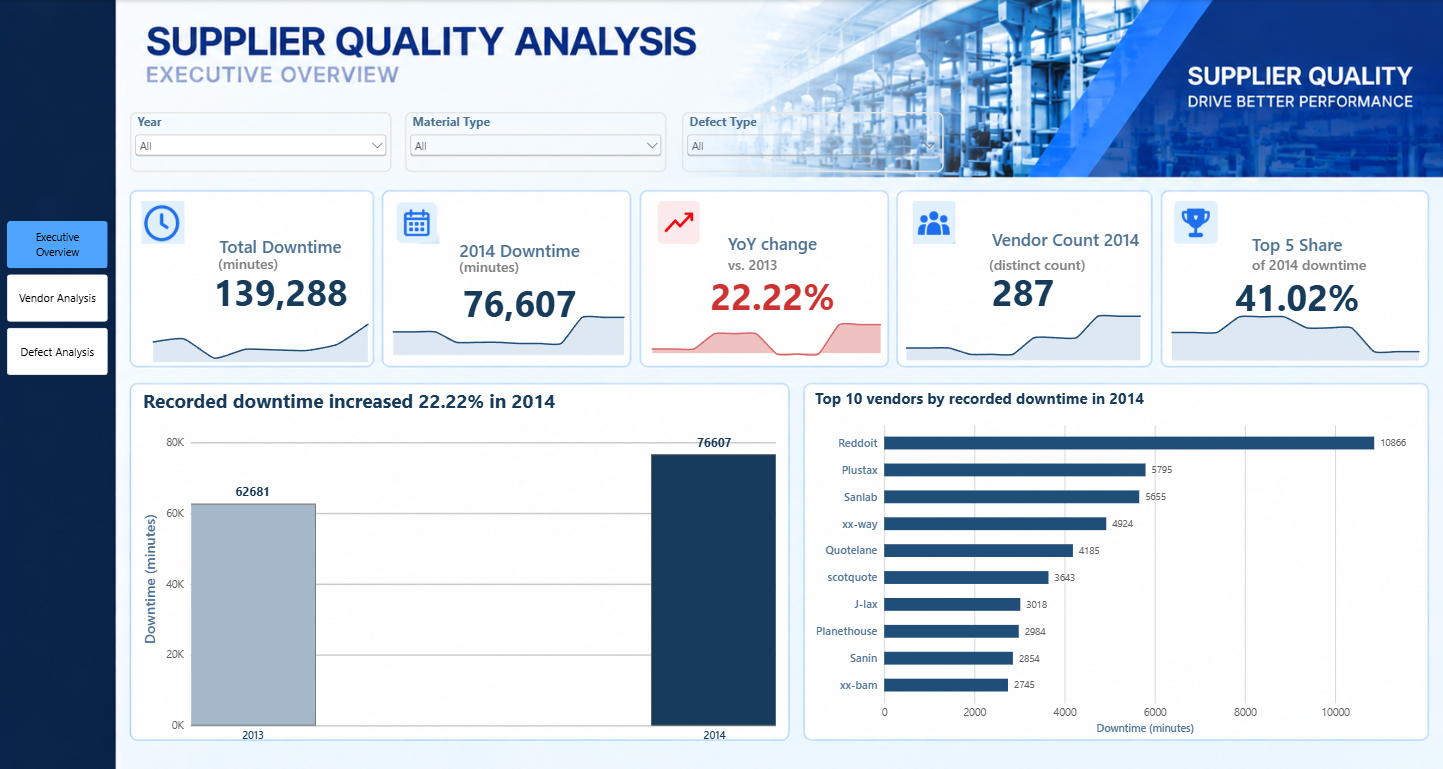

What the dashboard file says about the page in this screenshot:
{"tool":"powerbi","page":{"name":"Executive Overview","canvas":[1920,1080],"ordinal":0},"visuals":[{"type":"slicer","fields":{"Values":["DateTable.Year"]},"box":[172.9,149,348.5,79.8],"z":0},{"type":"slicer","fields":{"Values":["MaterialTypeTable.Material Type"]},"box":[538.7,149,348.5,79.8],"z":1000},{"type":"slicer","fields":{"Values":["DefectTypeTable.Defect Type"]},"box":[907.1,149,348.5,79.8],"z":2000},{"type":"cardVisual","title":"Total Downtime","fields":{"Data":["*Measure.Total Downtime"]},"box":[173.8,243.8,398.8,246.2],"z":3000},{"type":"textbox","box":[289.4,338.3,191.5,51.1],"z":4000},{"type":"cardVisual","title":"Total Downtime","fields":{"Data":["*Measure.Downtime Change %"]},"box":[814.4,243.3,427.5,248.8],"z":5000},{"type":"cardVisual","title":"Total Downtime","fields":{"Data":["*Measure.Vendor Count 2014"]},"box":[1190,240,341.1,246.7],"z":6000},{"type":"textbox","box":[967.8,338.9,100,50],"z":7000},{"type":"textbox","box":[1315.6,338.9,142.2,62.2],"z":8000},{"type":"cardVisual","title":"Total Downtime","fields":{"Data":["*Measure.Top 5 Downtime Share 2014"]},"box":[1543.3,246.7,365.6,246.7],"z":9000},{"type":"textbox","box":[1665.6,338.9,200,38.9],"z":10000},{"type":"lineChart","fields":{"Category":["DateTable.Date.Variation.Date Hierarchy.Quarter","DateTable.Year"],"Y":["*Measure.Total Downtime"]},"box":[172.2,397.8,350,100],"z":11000},{"type":"lineChart","fields":{"Category":["DateTable.Date.Variation.Date Hierarchy.Quarter","DateTable.Year"],"Y":["*Measure.Top 5 Downtime Share 2014"]},"box":[1531.1,393.3,384.4,102.2],"z":12000},{"type":"lineChart","fields":{"Category":["DateTable.Date.Variation.Date Hierarchy.Quarter","DateTable.Year"],"Y":["*Measure.Downtime Change %"]},"box":[840,401.1,357.8,100],"z":13000},{"type":"lineChart","fields":{"Category":["DateTable.Date.Variation.Date Hierarchy.Quarter","DateTable.Year"],"Y":["*Measure.Vendor Count 2014"]},"box":[1177.8,392.2,365.6,103.3],"z":14000},{"type":"clusteredColumnChart","title":"Recorded downtime increased 22.22% in 2014","fields":{"Category":["DateTable.Year"],"Y":["*Measure.Total Downtime"]},"box":[173.6,501.9,873.6,507.5],"z":15000},{"type":"cardVisual","title":"Total Downtime","fields":{"Data":["*Measure.Downtime 2014 Display"]},"box":[476.7,254.4,430,246.2],"z":16000},{"type":"clusteredBarChart","title":"Top 10 vendors by recorded downtime in 2014","fields":{"Category":["VendorTable.Vendor"],"Y":["*Measure.Downtime 2014"]},"box":[1067.9,501.9,837.7,492.5],"z":17000},{"type":"textbox","box":[610,342.2,103.3,50],"z":18000},{"type":"lineChart","fields":{"Category":["DateTable.Date.Variation.Date Hierarchy.Quarter","DateTable.Year"],"Y":["*Measure.Downtime 2014"]},"box":[495.6,388.9,361.1,100],"z":19000},{"type":"image","box":[174.2,267.3,85.1,57.2],"z":20000},{"type":"image","box":[522.7,267.3,66.5,57.2],"z":21000},{"type":"image","box":[856.6,267.3,91.8,57.2],"z":22000},{"type":"image","box":[1201,267.3,83.8,57.2],"z":23000},{"type":"image","box":[1558.8,267.3,63.8,57.2],"z":24000},{"type":"pageNavigator","box":[9.3,293.9,134.3,207.5],"z":24001}]}

Visuals, with their boxes on the page's 1920x1080 design canvas (x1, y1, x2, y2). These are canvas units, not pixel positions in the 1443x769 screenshot, which may show the page scaled, cropped or inside an application window:
slicer - DateTable.Year: box(173, 149, 521, 229)
slicer - MaterialTypeTable.Material Type: box(539, 149, 887, 229)
slicer - DefectTypeTable.Defect Type: box(907, 149, 1256, 229)
"Total Downtime" cardVisual: box(174, 244, 573, 490)
textbox: box(289, 338, 481, 389)
"Total Downtime" cardVisual: box(814, 243, 1242, 492)
"Total Downtime" cardVisual: box(1190, 240, 1531, 487)
textbox: box(968, 339, 1068, 389)
textbox: box(1316, 339, 1458, 401)
"Total Downtime" cardVisual: box(1543, 247, 1909, 493)
textbox: box(1666, 339, 1866, 378)
lineChart - DateTable.Date.Variation.Date Hierarchy.Quarter x DateTable.Year: box(172, 398, 522, 498)
lineChart - DateTable.Date.Variation.Date Hierarchy.Quarter x DateTable.Year: box(1531, 393, 1916, 496)
lineChart - DateTable.Date.Variation.Date Hierarchy.Quarter x DateTable.Year: box(840, 401, 1198, 501)
lineChart - DateTable.Date.Variation.Date Hierarchy.Quarter x DateTable.Year: box(1178, 392, 1543, 496)
"Recorded downtime increased 22.22% in 2014" clusteredColumnChart: box(174, 502, 1047, 1009)
"Total Downtime" cardVisual: box(477, 254, 907, 501)
"Top 10 vendors by recorded downtime in 2014" clusteredBarChart: box(1068, 502, 1906, 994)
textbox: box(610, 342, 713, 392)
lineChart - DateTable.Date.Variation.Date Hierarchy.Quarter x DateTable.Year: box(496, 389, 857, 489)
image: box(174, 267, 259, 324)
image: box(523, 267, 589, 324)
image: box(857, 267, 948, 324)
image: box(1201, 267, 1285, 324)
image: box(1559, 267, 1623, 324)
pageNavigator: box(9, 294, 144, 501)
